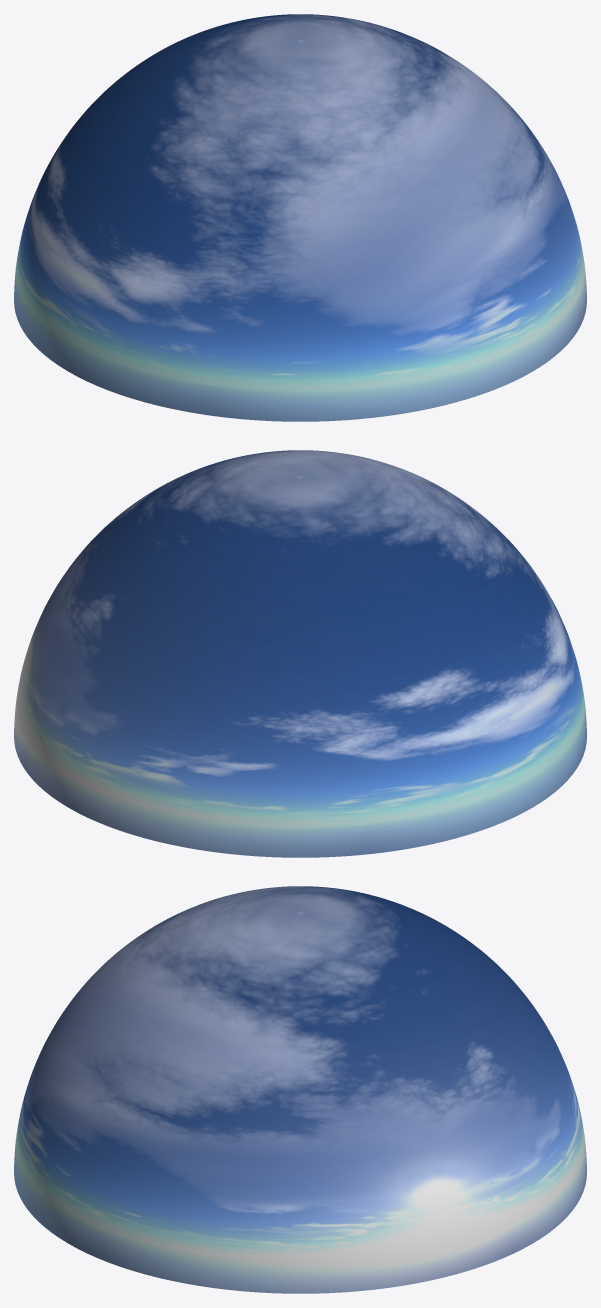
The model's file is sky.obj.
3 renders of one model, top to bottom at view 1: azimuth 30°, elevation 25°; view 2: azimuth 150°, elevation 25°; view 3: azimuth 270°, elevation 25°, orthographic.
Bounding box in the file's own units: 240 × 120 × 240.
